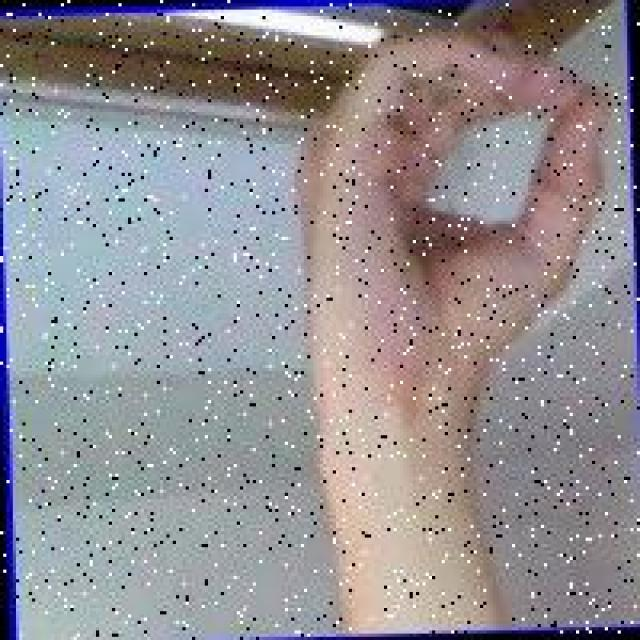O: (281, 1, 640, 462)
